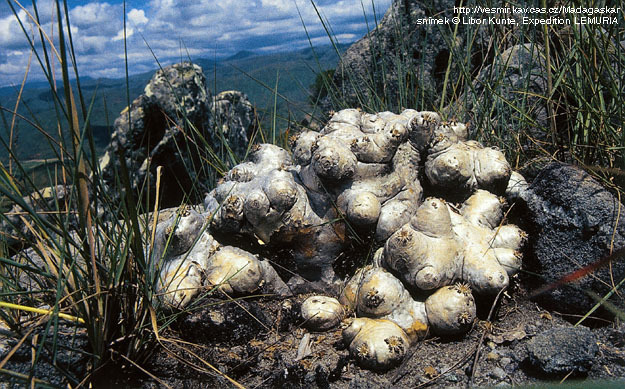Pachypodium brevicaule: (167, 112, 551, 357)
